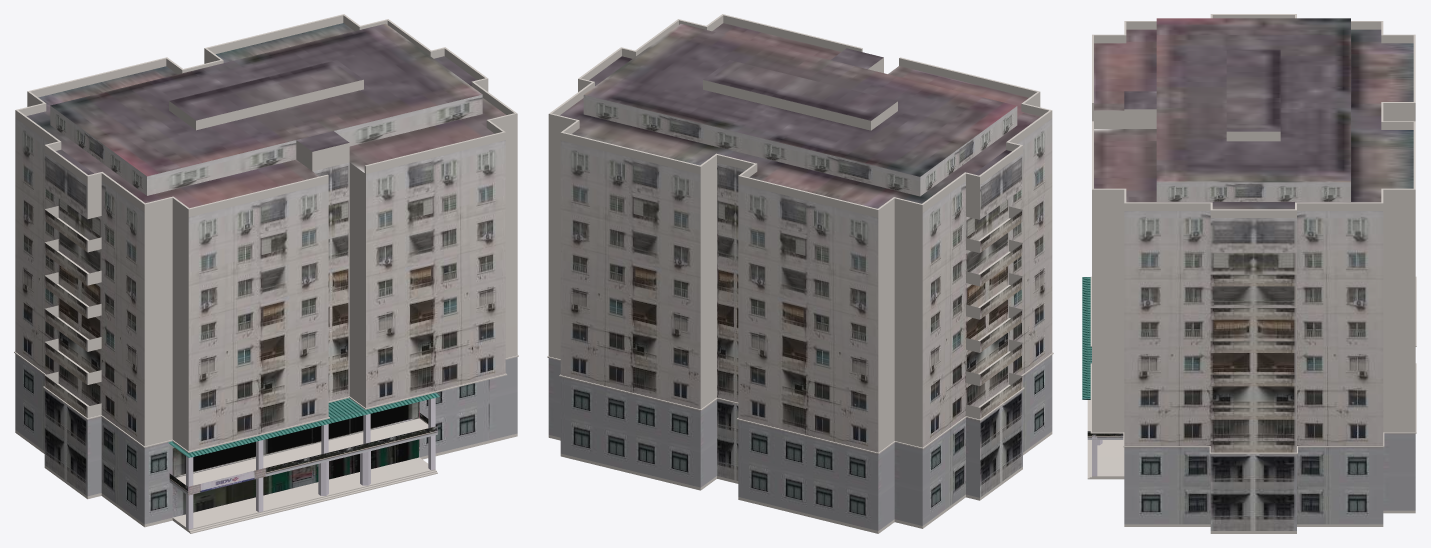
3 renders of one model, left to right at view 1: azimuth 30°, elevation 25°; view 2: azimuth 150°, elevation 25°; view 3: azimuth 270°, elevation 25°, orthographic.
Parts seen in each view (by area): view 1: HN519___HH2_Constrexim; view 2: HN519___HH2_Constrexim; view 3: HN519___HH2_Constrexim.
Boxes of the visible parts, bbox=[...] form: HN519___HH2_Constrexim: bbox=[14, 14, 518, 533]; HN519___HH2_Constrexim: bbox=[547, 14, 1053, 533]; HN519___HH2_Constrexim: bbox=[1082, 14, 1416, 533].
Size of the model in its own units: 43.2 by 35.3 by 31.
Materials: 1 (1 with a texture image).
